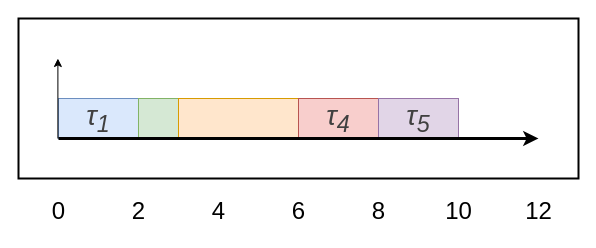
The diagram is 596 pixels wide and 248 high, and some of its shapes have lost their labels. The centre of each missing label's shape, as x and y in pixels:
τ 2: point (158, 118)
τ 3: point (238, 118)
